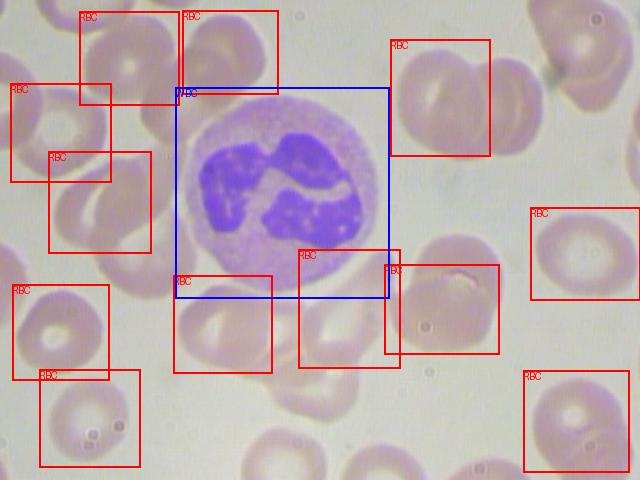RBC: (298, 249, 400, 368), (390, 39, 490, 156), (523, 370, 629, 472), (48, 151, 151, 253), (384, 264, 499, 354), (530, 207, 640, 300), (10, 83, 111, 182), (39, 369, 140, 467), (173, 275, 272, 373), (79, 11, 179, 105), (12, 284, 109, 380), (182, 10, 278, 94)
WBC: (175, 87, 389, 298)
